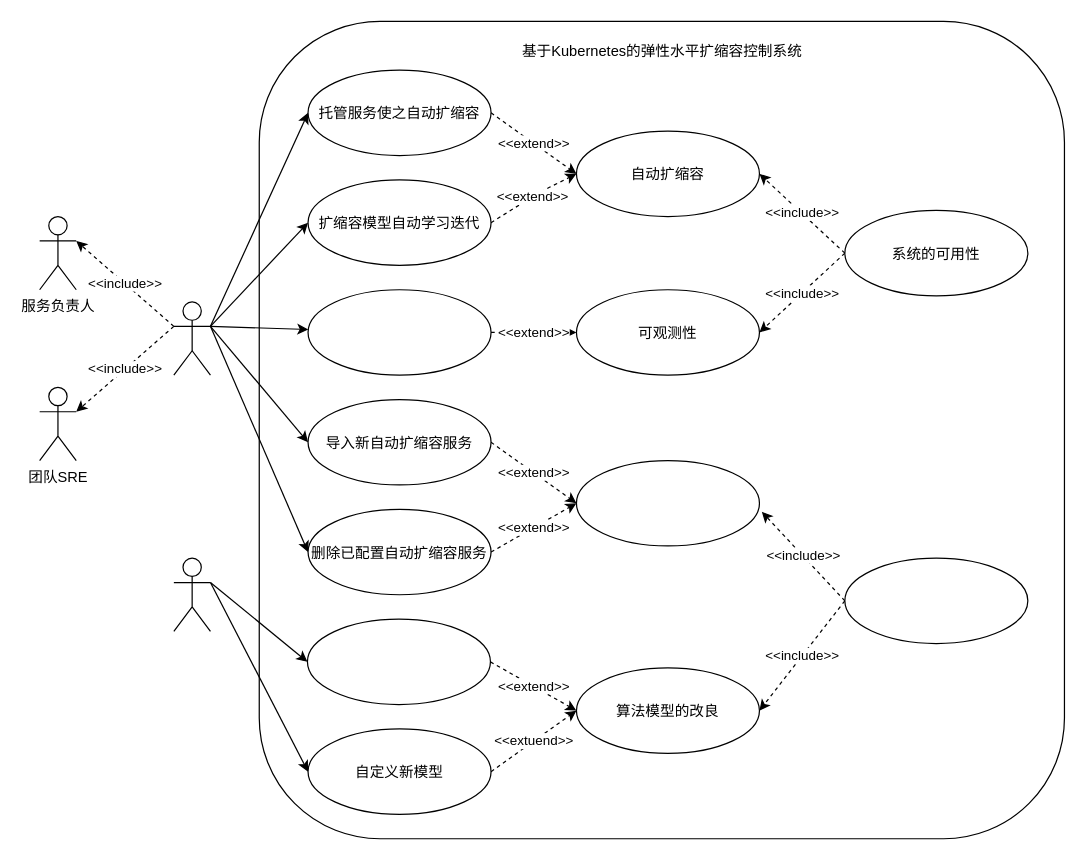
Some shapes in this 1086 by 860 pixel diagram are drawn without their labels. Here are the shapes that lost their labels. From the top down, the box of each, then its label:
(173, 301, 210, 375): 运维人员
(307, 289, 491, 375): 观测服务运行状态 与扩缩容效果
(575, 459, 759, 546): 服务的新增与删除
(173, 557, 210, 631): 算法工程师
(844, 557, 1028, 644): 系统的可扩展性
(306, 618, 490, 705): 获取迭代模型用数据
